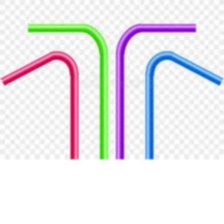drinking_straw: (111, 18, 199, 162), (24, 18, 112, 162), (140, 48, 224, 162), (0, 45, 83, 160)
